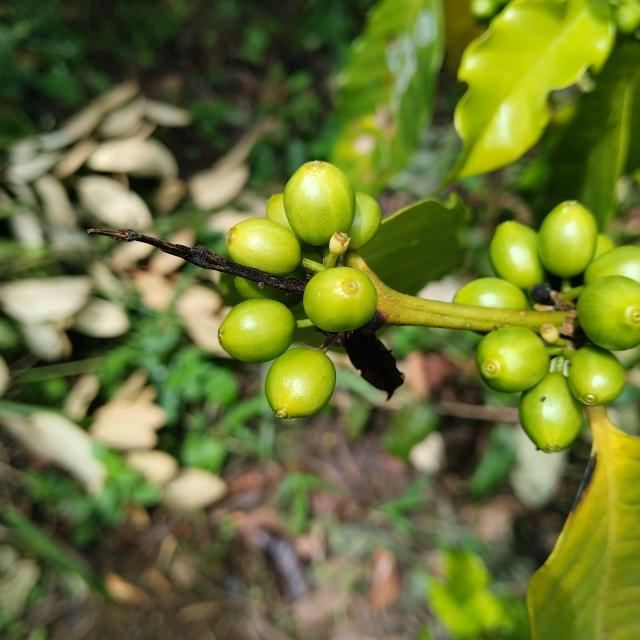green: (284, 160, 356, 246), (520, 372, 584, 453), (265, 348, 336, 419), (218, 299, 296, 363), (303, 266, 378, 332), (476, 327, 551, 393), (578, 275, 640, 351), (539, 200, 598, 278), (226, 218, 301, 276), (490, 221, 545, 289), (569, 346, 625, 406), (454, 278, 529, 310), (585, 245, 640, 285), (347, 192, 382, 249), (234, 277, 300, 307), (266, 193, 293, 232), (594, 234, 615, 259)
